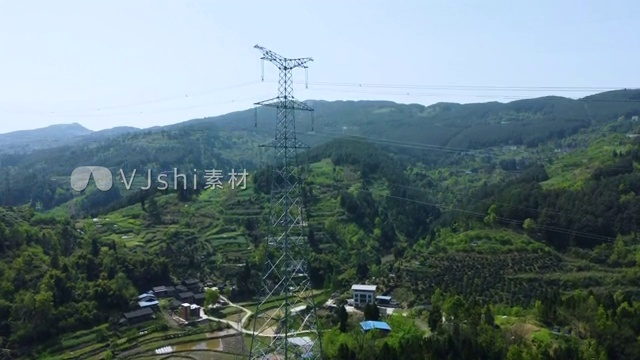tower_body: (248, 38, 326, 359)
tower_foot: (247, 294, 320, 360)
tower_head: (252, 43, 318, 75)
